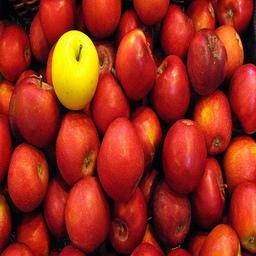apple: (96, 118, 145, 202), (51, 30, 100, 110), (160, 118, 208, 194), (63, 176, 110, 250), (9, 77, 58, 146), (55, 112, 101, 182), (5, 141, 48, 213), (114, 27, 156, 100), (149, 180, 191, 249), (189, 157, 227, 230), (150, 54, 190, 122), (193, 89, 232, 155), (188, 29, 226, 96), (89, 74, 130, 136), (108, 187, 147, 252), (227, 63, 255, 133), (158, 5, 193, 59), (229, 181, 256, 251), (129, 104, 161, 160), (1, 24, 31, 79), (38, 1, 75, 45), (214, 24, 243, 80), (43, 177, 69, 238), (81, 1, 120, 39), (198, 223, 241, 256), (213, 1, 254, 34), (186, 1, 215, 32), (132, 1, 170, 22), (1, 241, 33, 255)
